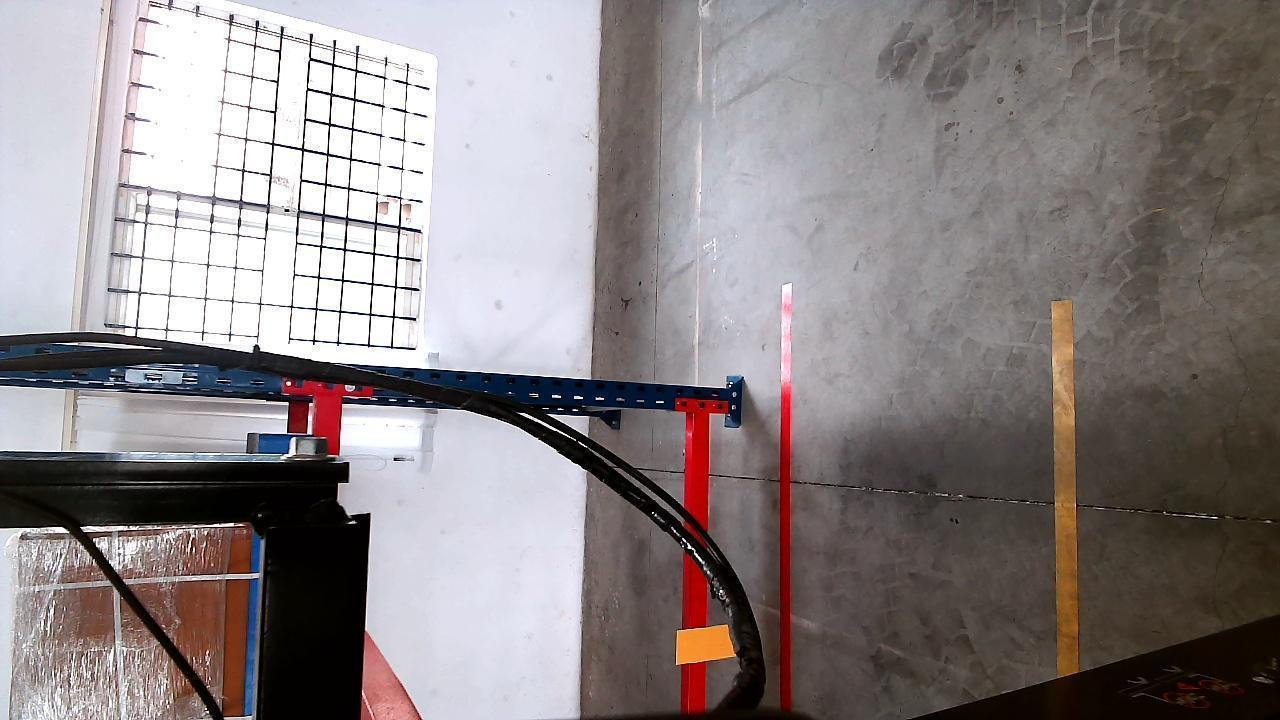red_line: (775, 282, 796, 703)
yellow_line: (1048, 298, 1083, 679)
